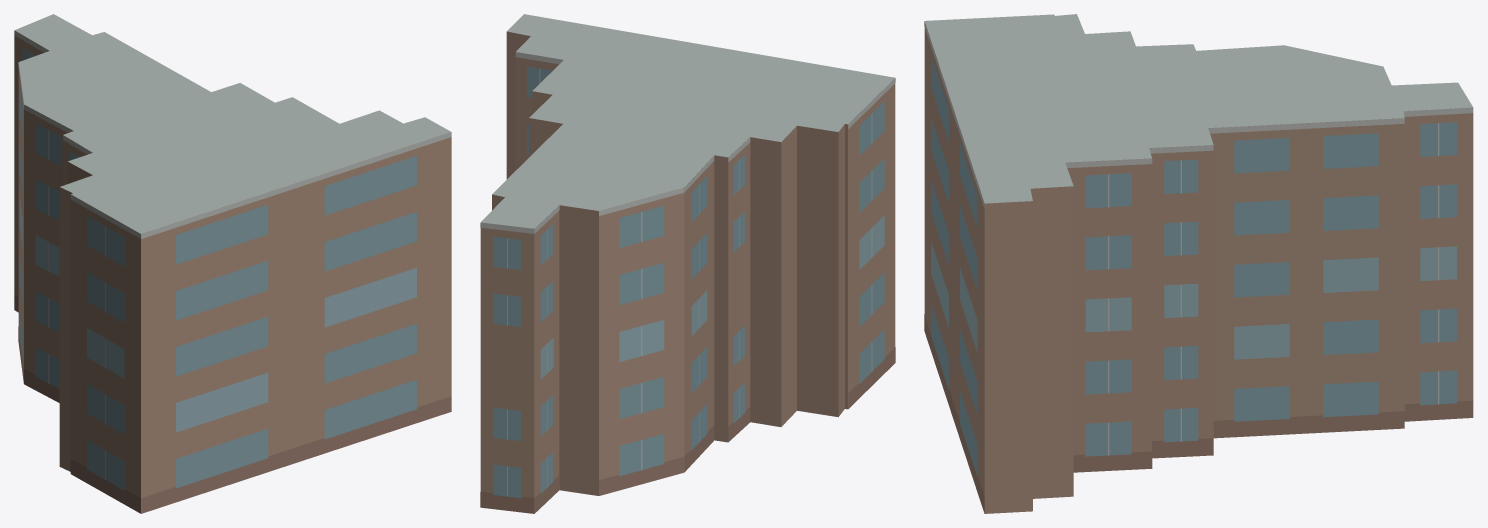
Rendered from survey-upis-32530065.glb.
3 views of the same model, side by side, from view 1: azimuth 30°, elevation 25°; view 2: azimuth 150°, elevation 25°; view 3: azimuth 270°, elevation 25° (orthographic). The views are drawn at different scales.
Parts seen in each view (by area): view 1: survey-upis-32530065.tmp; view 2: survey-upis-32530065.tmp; view 3: survey-upis-32530065.tmp.
Boxes of the visible parts, left/top/right/bottom form: survey-upis-32530065.tmp: left=14, top=14, right=451, bottom=513; survey-upis-32530065.tmp: left=480, top=14, right=895, bottom=513; survey-upis-32530065.tmp: left=924, top=14, right=1473, bottom=513.
Size of the model in its own units: 17.56 by 13.4 by 21.48.
